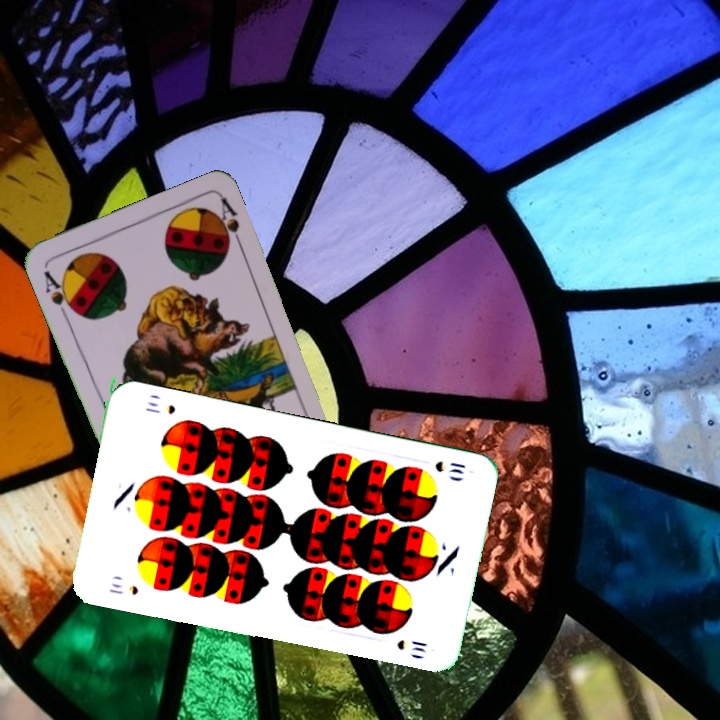S10: (431, 457, 468, 481), (104, 579, 141, 598)
SA: (39, 266, 79, 321)
